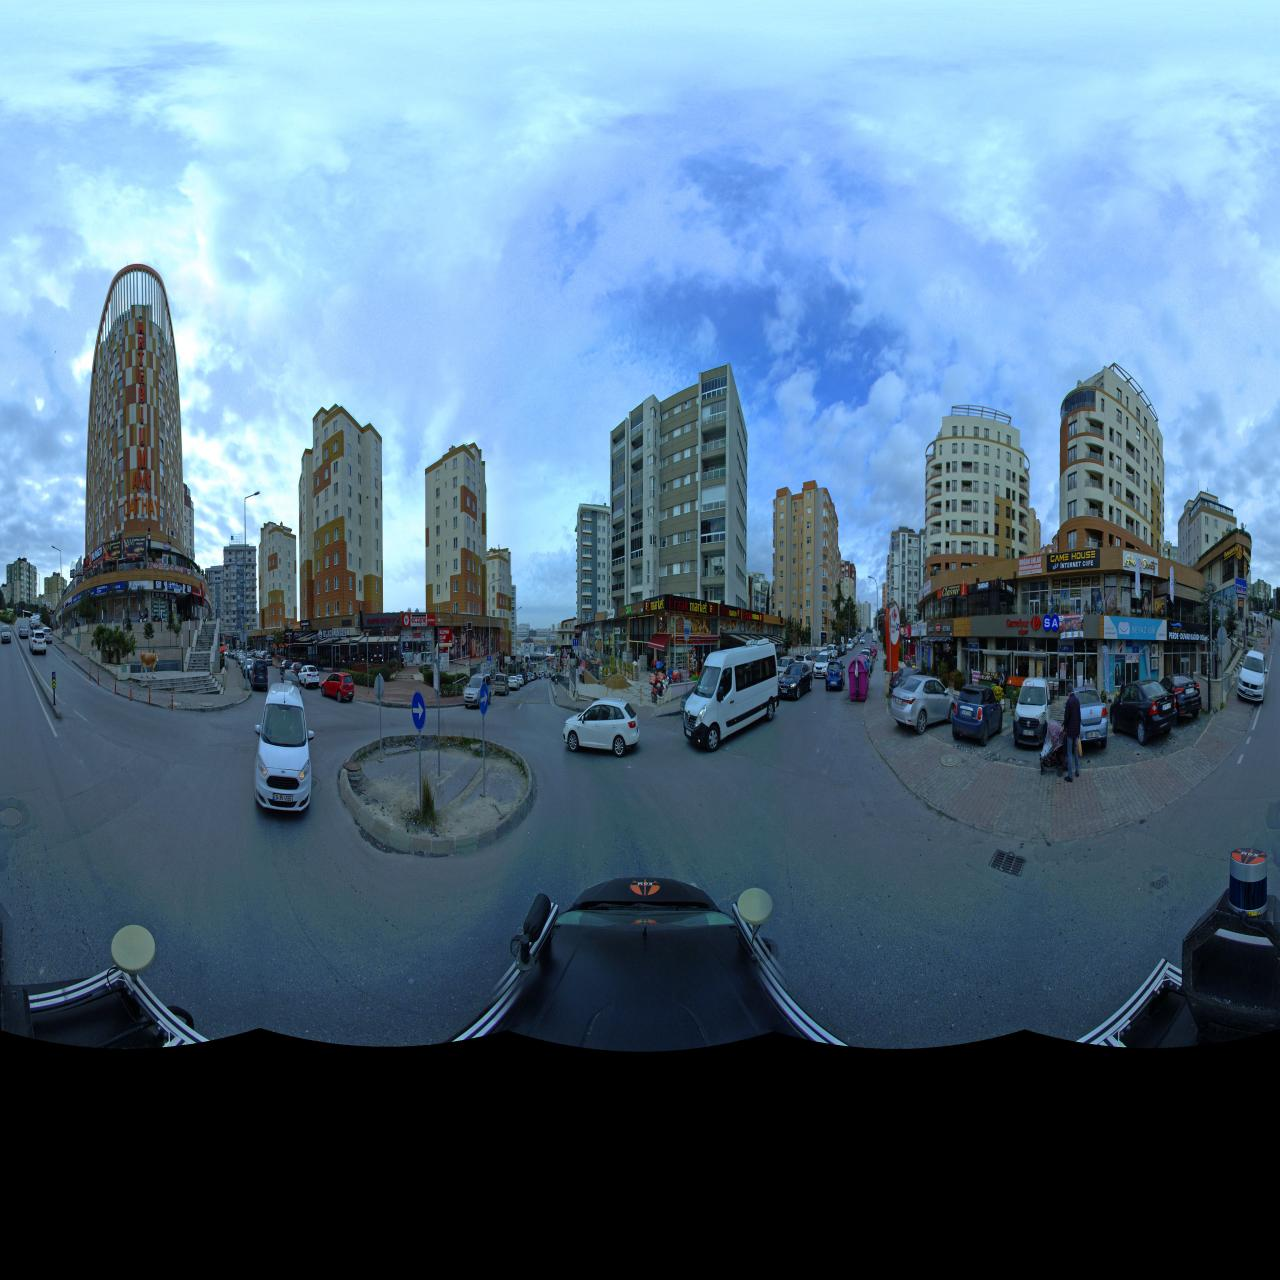SignStore: (1103, 614, 1167, 641), (645, 594, 719, 618), (1047, 547, 1101, 573), (1005, 614, 1060, 638), (1122, 551, 1159, 578), (721, 601, 763, 620), (1167, 621, 1206, 639), (937, 579, 967, 601), (123, 535, 147, 560), (1061, 614, 1084, 640), (1019, 552, 1042, 578), (363, 613, 401, 628), (1224, 543, 1251, 564), (402, 612, 435, 627), (927, 620, 954, 638), (104, 537, 122, 563), (84, 546, 102, 570), (318, 628, 349, 641), (968, 580, 995, 594), (618, 602, 642, 618), (164, 580, 185, 595), (594, 608, 614, 622), (1234, 577, 1247, 595), (561, 645, 572, 658), (1005, 583, 1015, 593), (300, 620, 311, 627), (293, 621, 300, 629)
